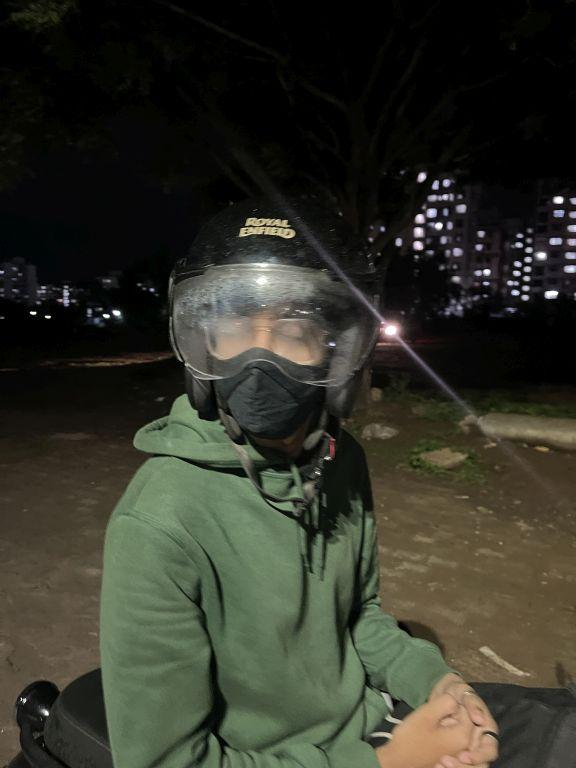helmet: (152, 189, 389, 446)
